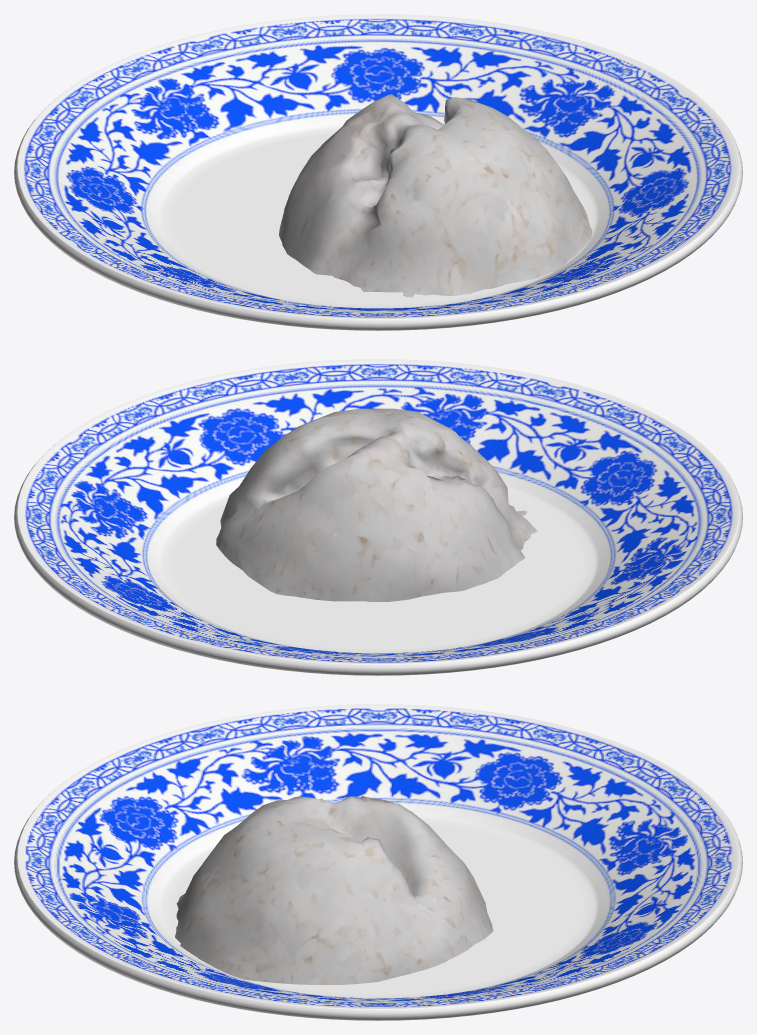
File: plate_5d7ba0f7cebb.glb
The picture shows the model from 3 angles, top to bottom: view 1: azimuth 30°, elevation 25°; view 2: azimuth 150°, elevation 25°; view 3: azimuth 270°, elevation 25°; orthographic projection.
Visible parts, largest first — view 1: Plato.001_3, arroz.001_0; view 2: Plato.001_3, arroz.001_0; view 3: Plato.001_3, arroz.001_0.
Boxes of the visible parts, x1,y1,x2,y2 form: Plato.001_3: [14, 14, 742, 330]; arroz.001_0: [279, 94, 592, 297]; Plato.001_3: [14, 359, 742, 675]; arroz.001_0: [216, 408, 537, 601]; Plato.001_3: [14, 704, 742, 1020]; arroz.001_0: [175, 796, 493, 985].
Size of the model in its own units: 41.03 by 7.8 by 41.03.
2 materials, 2 textured.
